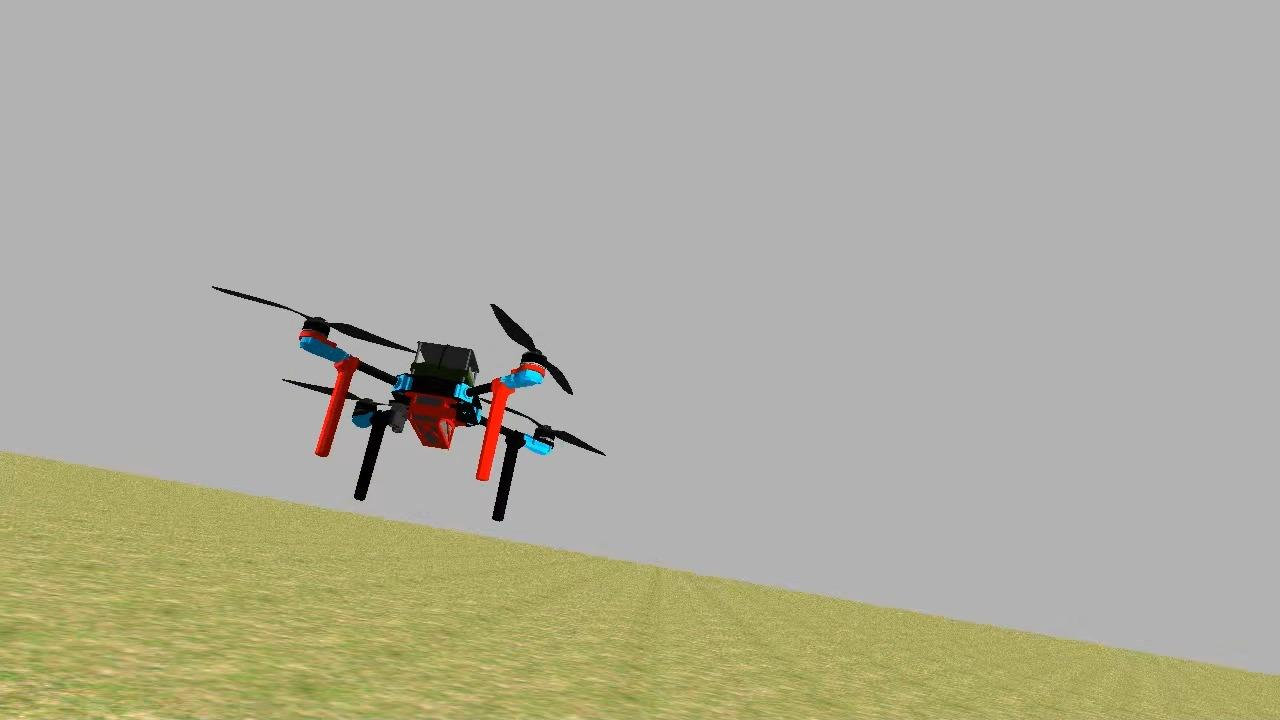UAV: (284, 304, 574, 534)
